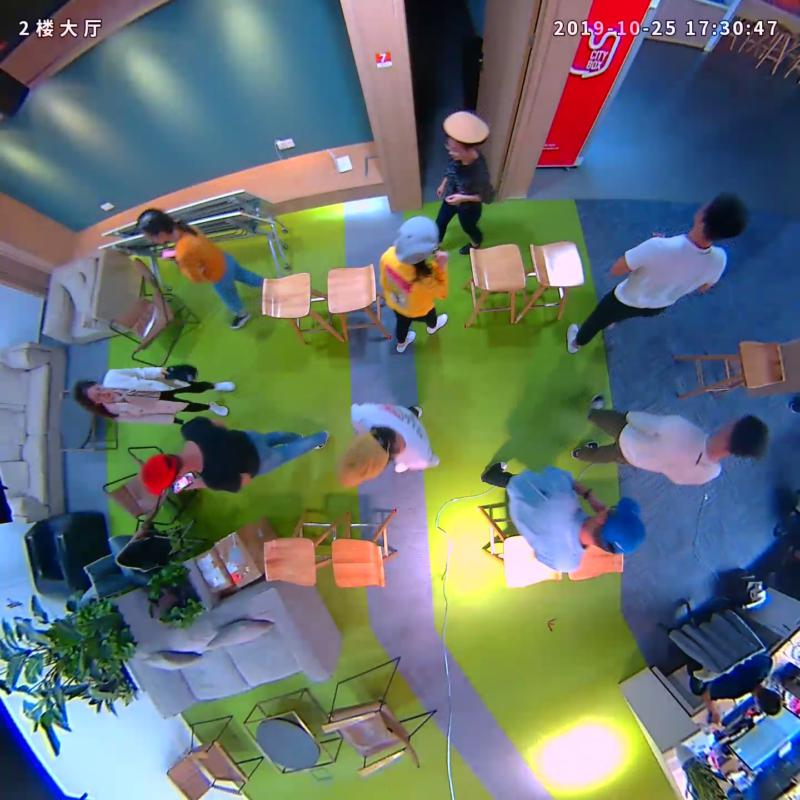head: (335, 428, 393, 489), (586, 497, 645, 555), (694, 192, 747, 243), (442, 109, 489, 161), (716, 413, 769, 459), (394, 215, 441, 265), (142, 452, 182, 496), (135, 208, 175, 244), (73, 380, 115, 405)
